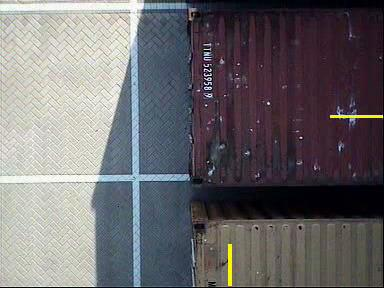groundmarker_2: (117, 155, 168, 195), (122, 40, 173, 79)
